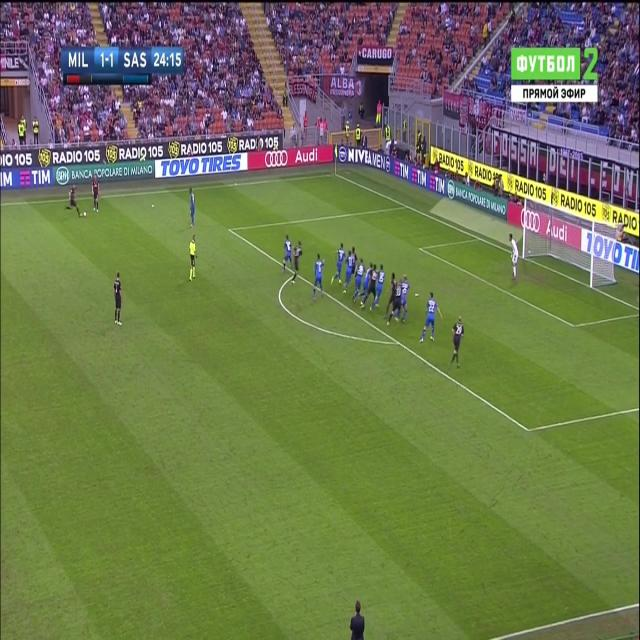Ball: (80, 208, 88, 220)
Goalkeeper: (508, 229, 520, 284)
Player: (417, 288, 444, 348), (446, 312, 465, 372), (368, 262, 387, 320), (385, 276, 403, 331), (309, 250, 327, 300), (362, 262, 378, 312), (350, 256, 366, 305), (112, 270, 125, 330), (329, 243, 346, 288), (88, 170, 104, 217), (291, 238, 307, 284), (382, 270, 397, 319), (63, 182, 80, 221), (401, 273, 414, 324), (342, 249, 354, 295), (187, 185, 198, 233), (281, 232, 293, 275)
Referee: (187, 232, 199, 284)
